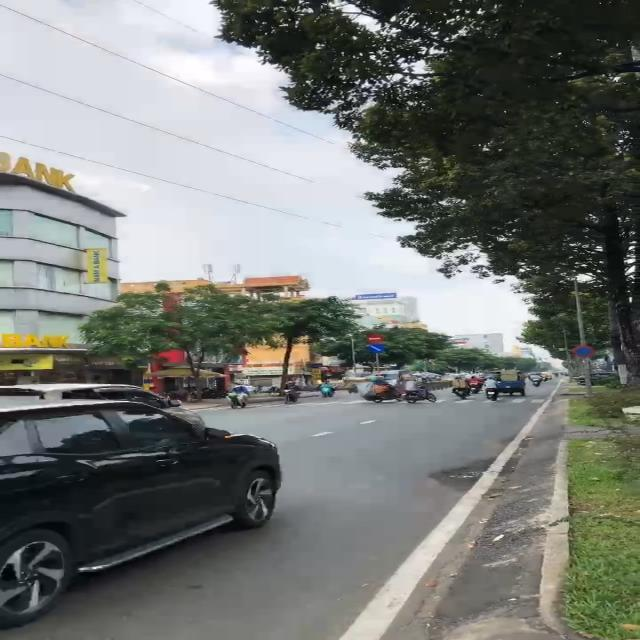Bien bao cam di nguoc chieu: (366, 333, 384, 343)
Bien bao huong phai di vong chuong ngai vat: (367, 344, 388, 354)
